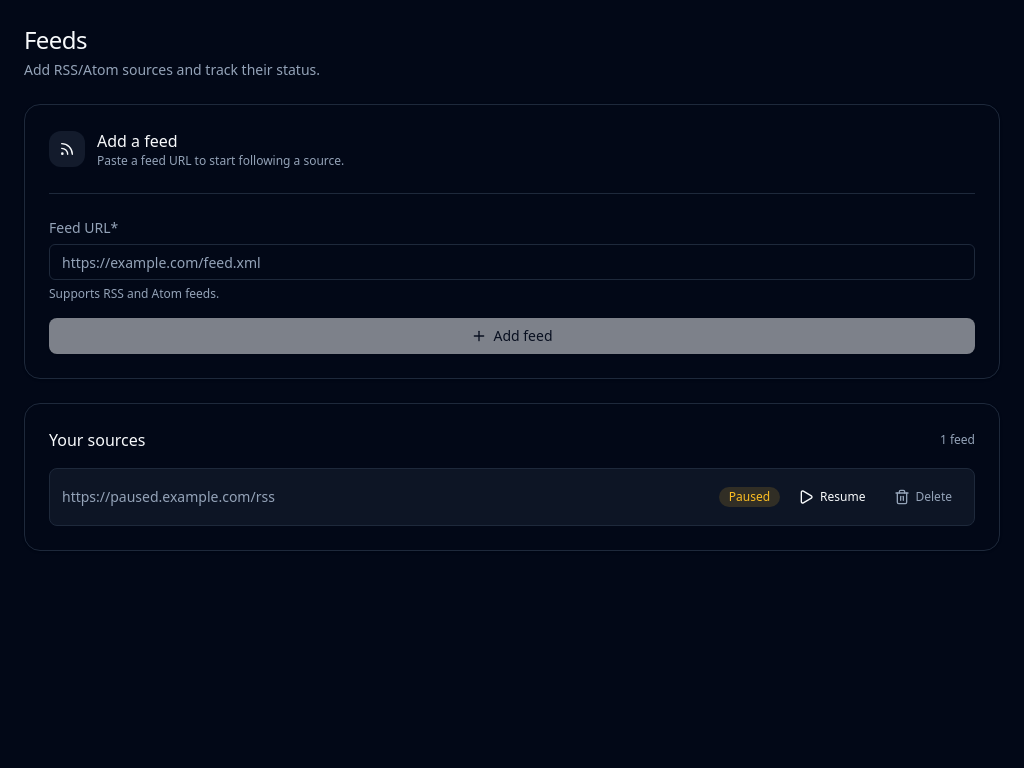
Test: Dashboard FeedsPage › resumes a paused feed via the resume endpoint and flips back to pause
This screenshot has width=1024, height=768.
Click the button "Resume". click: (832,497)
box: [788,481,876,513]
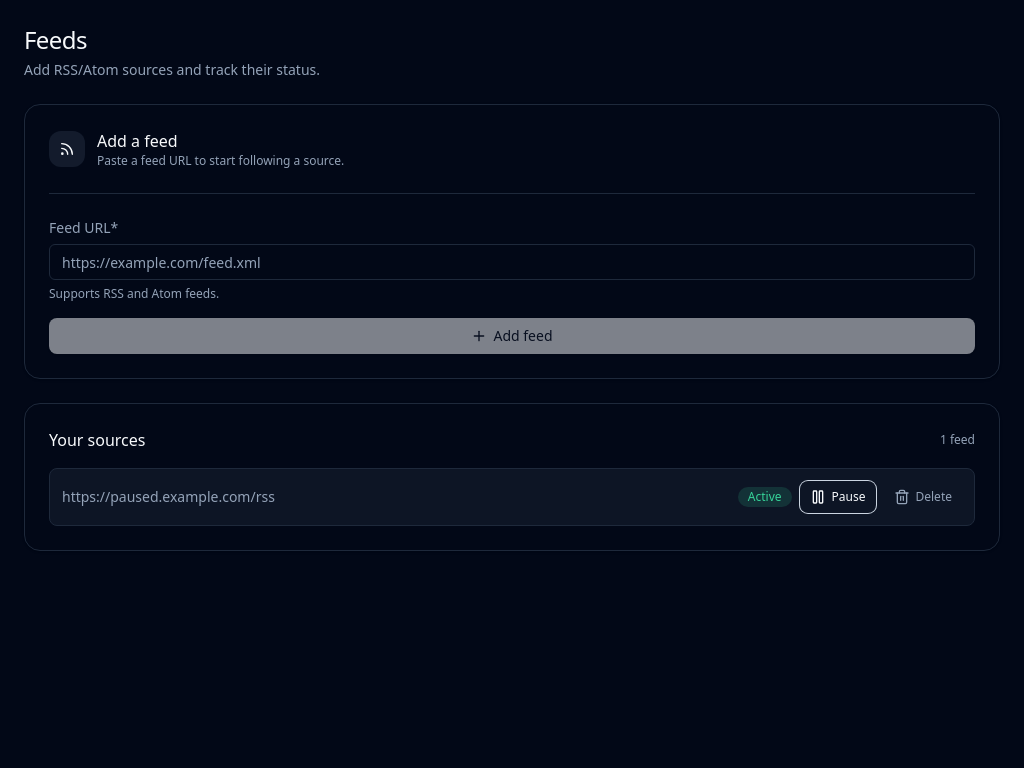
Expected: the button "Pause" is shown, [800,481,876,513]
